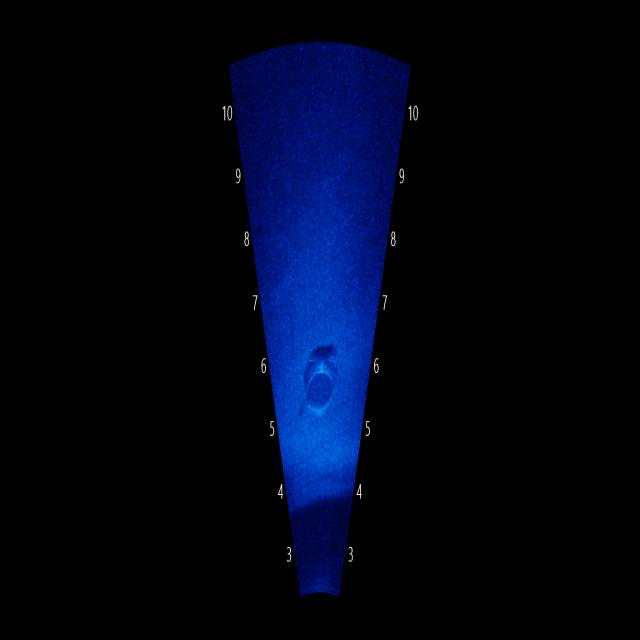circle: (293, 326, 352, 442)
